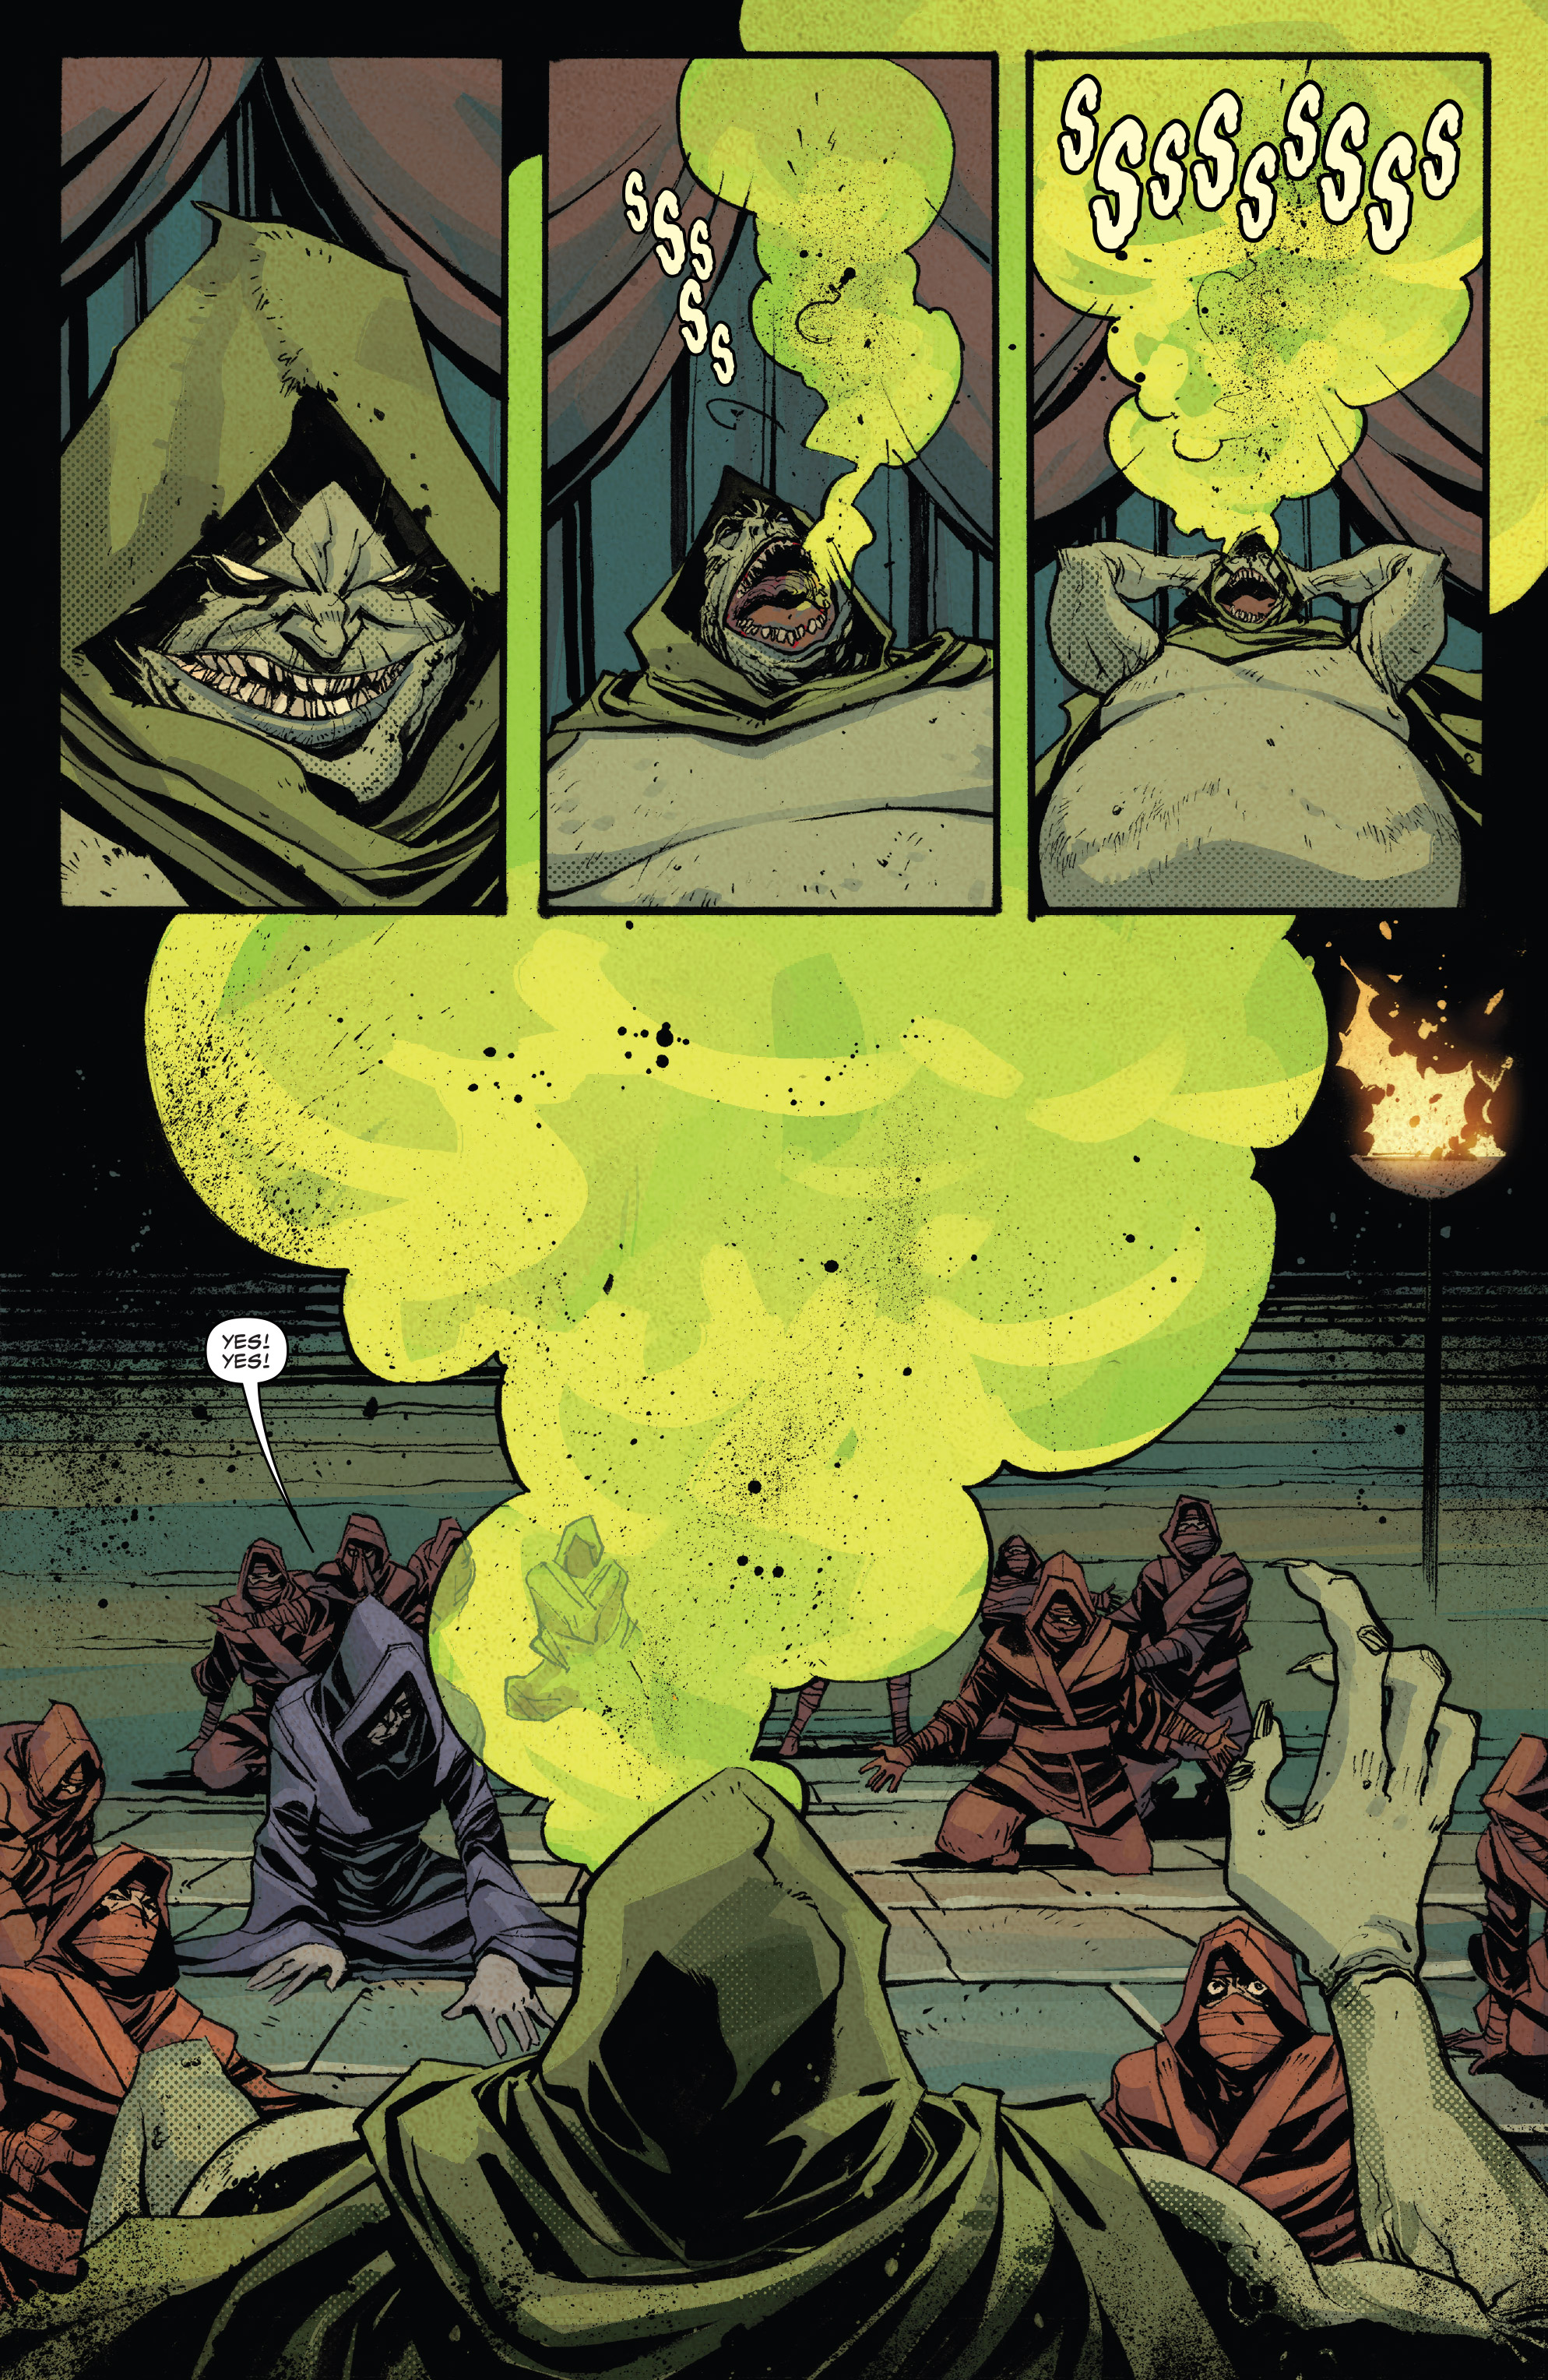Baloon: (179, 1294, 331, 1511)
Vignetta: (0, 911, 1548, 2380), (1024, 54, 1491, 904), (546, 54, 1005, 911), (64, 59, 508, 907)
